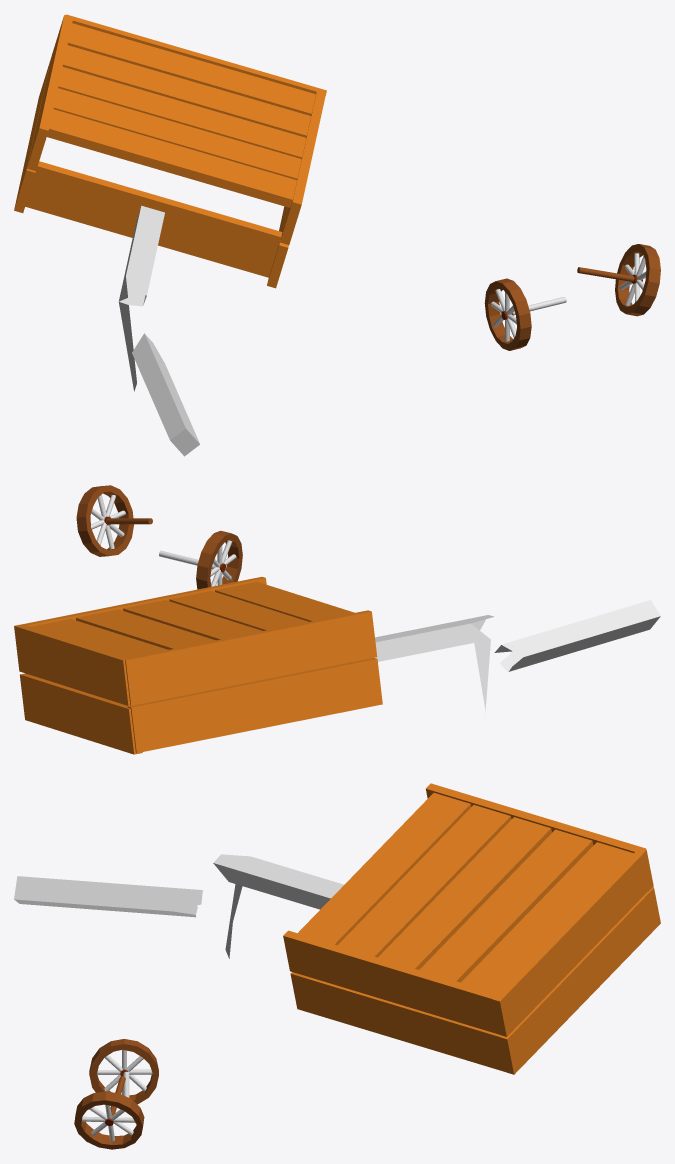
The model's file is Cart.fbx.
The picture shows the model from 3 angles, top to bottom: view 1: azimuth 30°, elevation 25°; view 2: azimuth 150°, elevation 25°; view 3: azimuth 270°, elevation 25°; orthographic projection. The views are drawn at different scales.
Parts seen in each view (by area): view 1: Cube.004, Cylinder.003_Cylinder.009; view 2: Cube.004, Cylinder.003_Cylinder.009; view 3: Cube.004, Cylinder.003_Cylinder.009.
Boxes of the visible parts, x1=… form: Cube.004: x1=14, y1=14, x2=326, y2=456; Cylinder.003_Cylinder.009: x1=484, y1=244, x2=660, y2=350; Cube.004: x1=14, y1=577, x2=660, y2=754; Cylinder.003_Cylinder.009: x1=76, y1=485, x2=242, y2=589; Cube.004: x1=14, y1=783, x2=660, y2=1074; Cylinder.003_Cylinder.009: x1=74, y1=1039, x2=158, y2=1149.
Bounding box in the file's own units: 933 × 313 × 1016.
